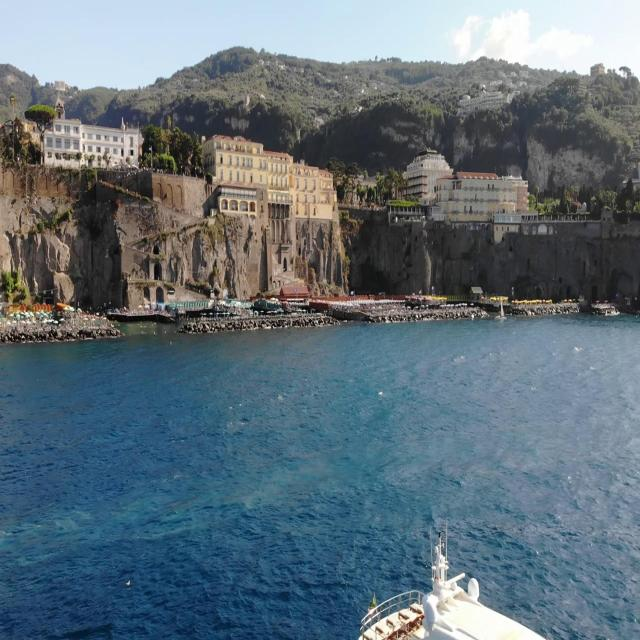boat: (370, 589, 434, 635)
